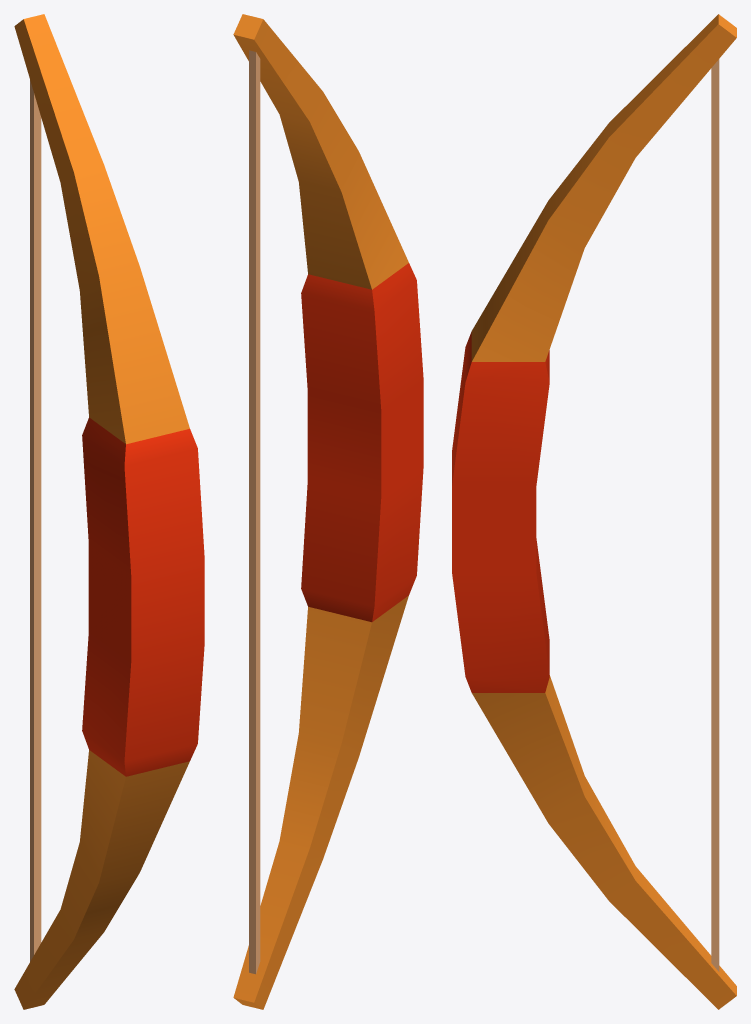
Rendered from Weapon_Bow_lvl01.fbx.
3 views of the same model, side by side, from view 1: azimuth 30°, elevation 25°; view 2: azimuth 150°, elevation 25°; view 3: azimuth 270°, elevation 25° (orthographic).
Visible parts, largest first — view 1: Weapon_Bow_lvl01; view 2: Weapon_Bow_lvl01; view 3: Weapon_Bow_lvl01.
Part boxes in pixels (box(x1,y1,x2,y2)): Weapon_Bow_lvl01: box(14, 14, 204, 1009); Weapon_Bow_lvl01: box(233, 14, 423, 1009); Weapon_Bow_lvl01: box(452, 14, 736, 1009).
Bounding box in the file's own units: 9.33 × 120 × 31.51.
